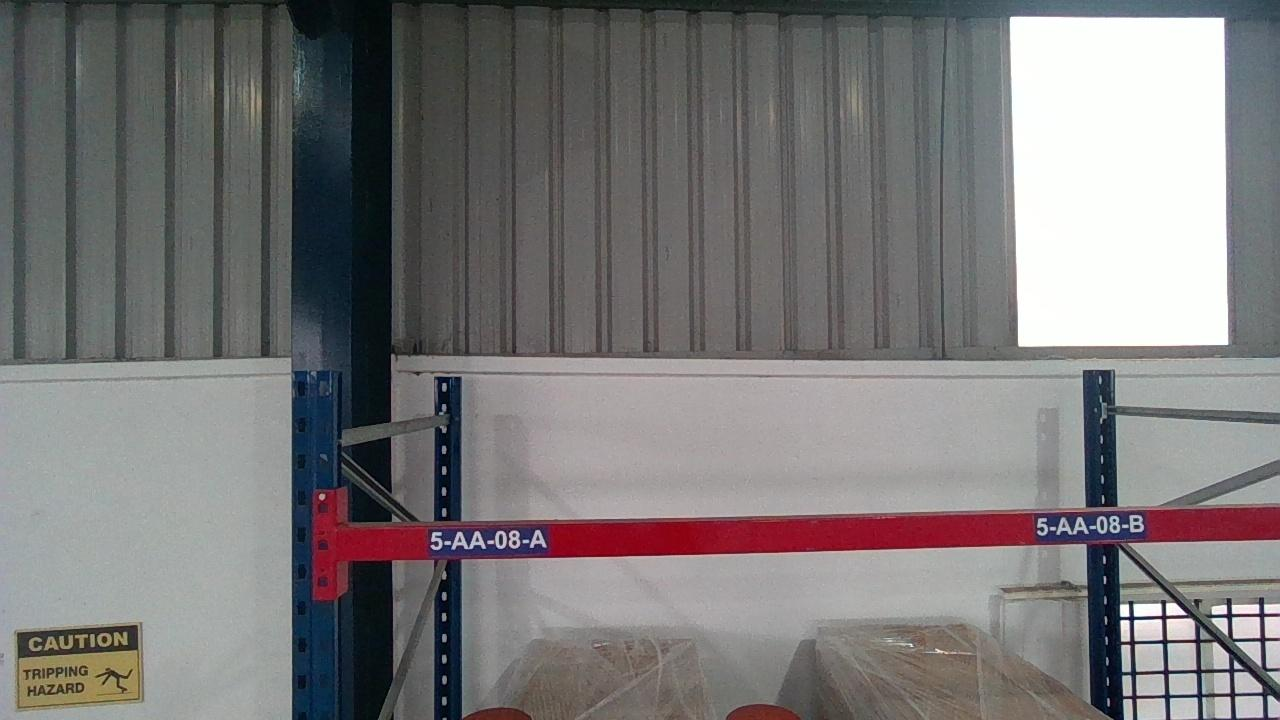h_rack: (344, 523, 1280, 540)
